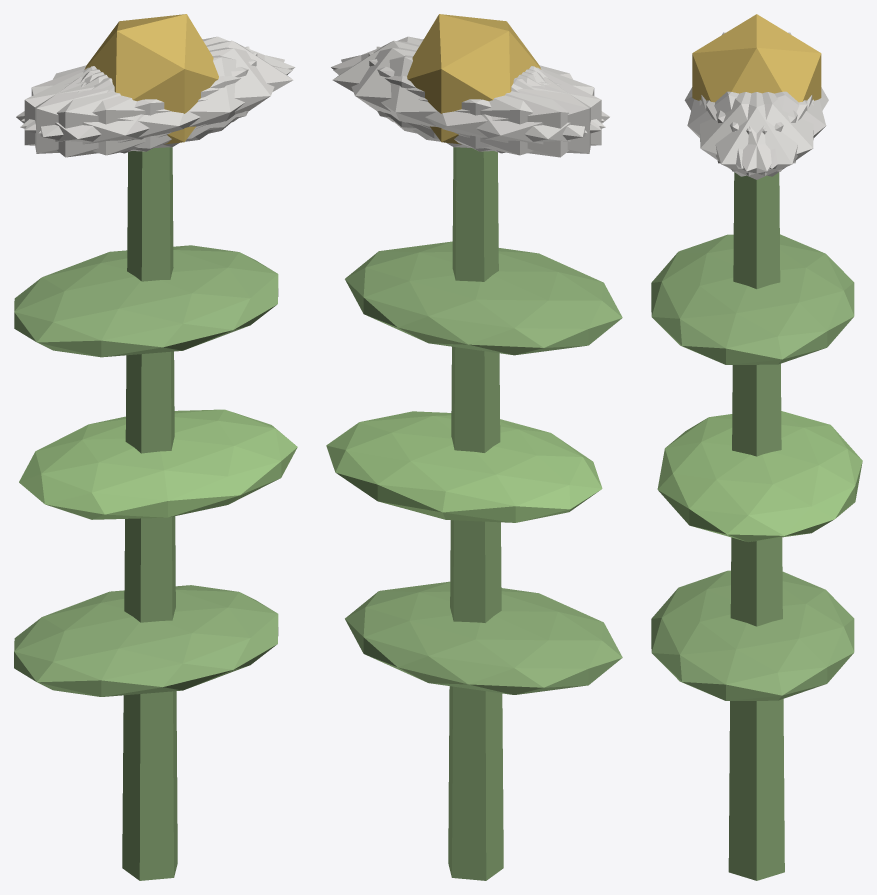
File: malpighia-glabra.glb
The picture shows the model from 3 angles, left to right: view 1: azimuth 30°, elevation 25°; view 2: azimuth 150°, elevation 25°; view 3: azimuth 270°, elevation 25°; orthographic projection.
Visible parts, largest first — view 1: stem, leaf2, leaf0, leaf1, center, petal1, petal6, petal2, petal5, petal7, petal0, petal4 (+2 smaller); view 2: stem, leaf2, leaf1, leaf0, center, petal8, petal3, petal7, petal4, petal2, petal0, petal5 (+2 smaller); view 3: stem, leaf1, leaf2, leaf0, center, petal0, petal5, petal4, petal8, petal1.
Part boxes in pixels (bbox=[...]): stem: bbox=[122, 147, 177, 880]; leaf2: bbox=[14, 245, 278, 357]; leaf0: bbox=[14, 585, 278, 696]; leaf1: bbox=[19, 409, 297, 519]; center: bbox=[84, 14, 218, 144]; petal1: bbox=[20, 55, 292, 155]; petal6: bbox=[16, 67, 212, 157]; petal2: bbox=[35, 46, 249, 153]; petal5: bbox=[39, 47, 284, 148]; petal7: bbox=[24, 52, 257, 151]; petal0: bbox=[84, 40, 293, 138]; petal4: bbox=[21, 36, 295, 130]; stem: bbox=[448, 147, 503, 880]; leaf2: bbox=[345, 241, 622, 355]; leaf1: bbox=[326, 411, 602, 522]; leaf0: bbox=[345, 581, 622, 694]; center: bbox=[407, 14, 541, 144]; petal8: bbox=[333, 55, 605, 155]; petal3: bbox=[413, 67, 609, 157]; petal7: bbox=[376, 46, 590, 153]; petal4: bbox=[341, 47, 587, 148]; petal2: bbox=[368, 52, 601, 151]; petal0: bbox=[332, 40, 541, 138]; petal5: bbox=[331, 36, 604, 130]; stem: bbox=[728, 172, 784, 880]; leaf1: bbox=[657, 411, 862, 542]; leaf2: bbox=[651, 234, 854, 364]; leaf0: bbox=[651, 570, 854, 700]; center: bbox=[692, 14, 821, 102]; petal0: bbox=[701, 92, 812, 179]; petal5: bbox=[699, 92, 807, 176]; petal4: bbox=[706, 92, 813, 176]; petal8: bbox=[716, 91, 826, 168]; petal1: bbox=[687, 91, 797, 168].
Size of the model in its own units: 0.1463 by 0.4381 by 0.1003.
